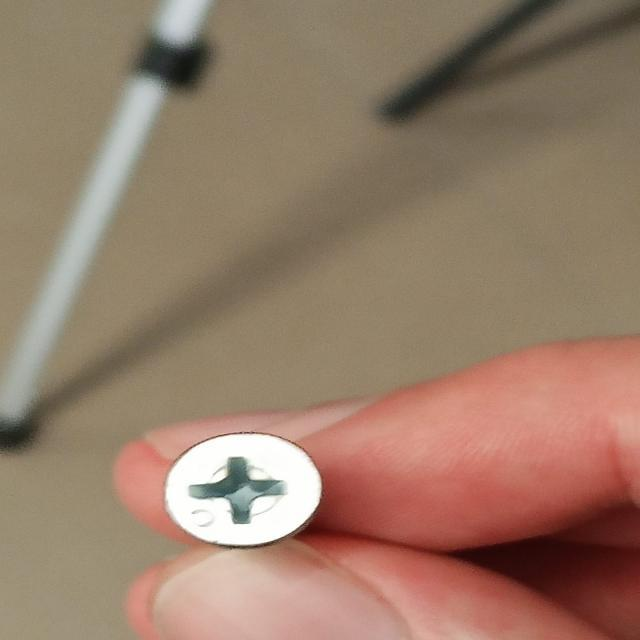phillips: (165, 431, 323, 549)
